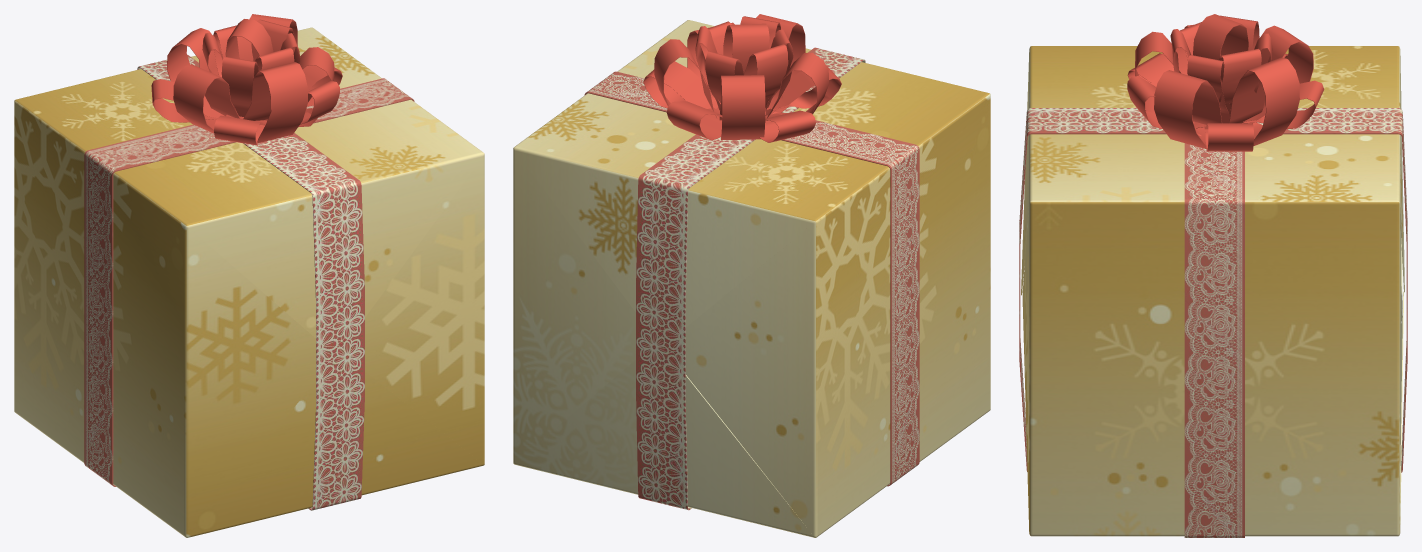
Rendered from new_year_present_box.glb.
3 views of the same model, side by side, from view 1: azimuth 30°, elevation 25°; view 2: azimuth 150°, elevation 25°; view 3: azimuth 270°, elevation 25° (orthographic). The views are drawn at different scales.
Parts seen in each view (by area): view 1: gift_0, stripe_1, flower_2; view 2: gift_0, stripe_1, flower_2; view 3: gift_0, stripe_1, flower_2.
Part boxes in pixels (x1,y1,x2,y2): gift_0: (14, 27, 484, 537); stripe_1: (84, 55, 414, 510); flower_2: (151, 14, 342, 145); gift_0: (513, 20, 990, 537); stripe_1: (584, 47, 919, 510); flower_2: (643, 14, 841, 142); gift_0: (1021, 46, 1404, 536); stripe_1: (1019, 108, 1407, 537); flower_2: (1127, 14, 1324, 151).
Size of the model in its own units: 0.8059 by 1.05 by 0.8377.
Materials: 3 (2 with a texture image).
